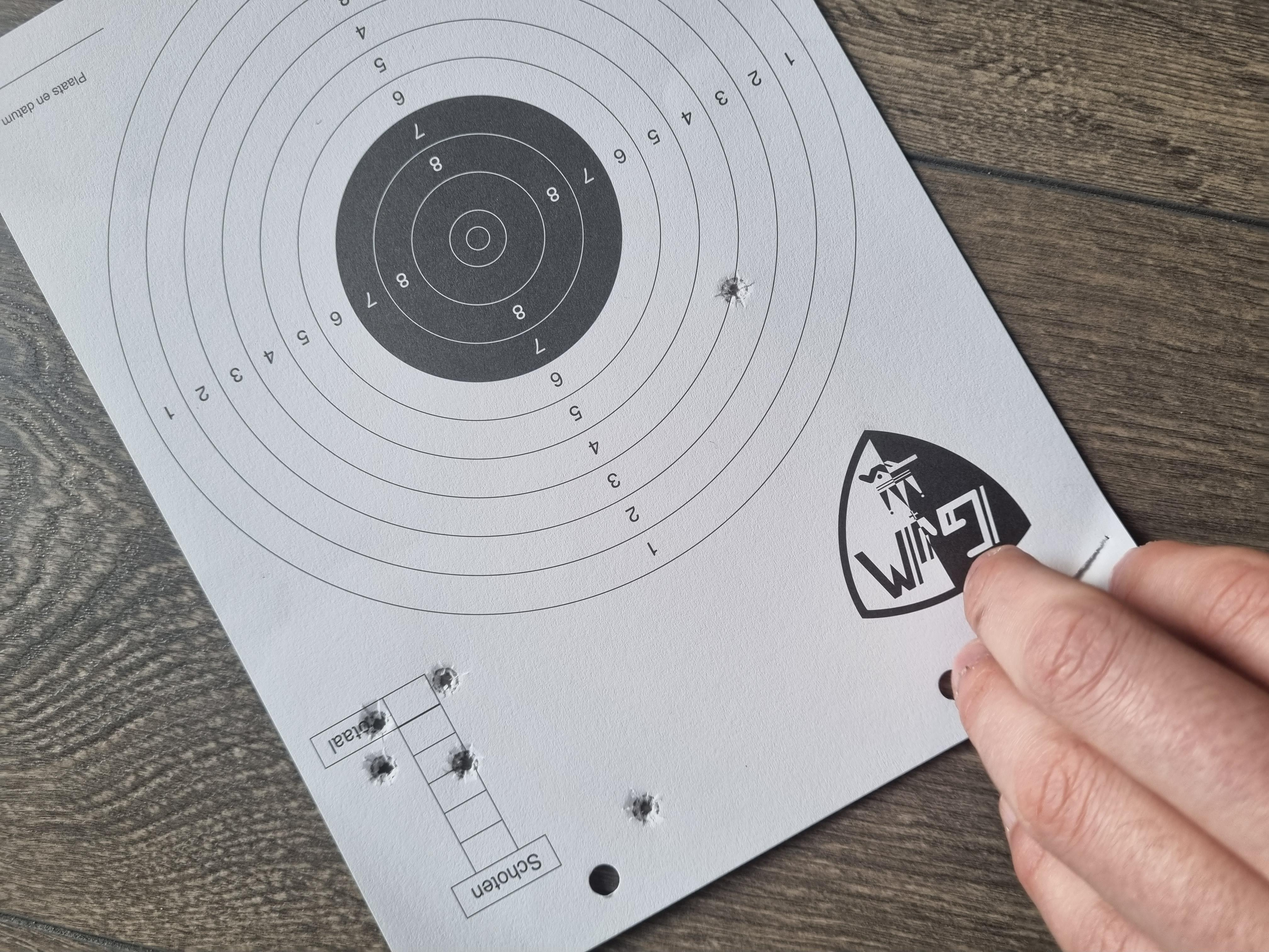hole: (859, 538, 901, 567), (172, 469, 213, 497), (229, 336, 276, 360), (339, 321, 385, 345), (223, 273, 265, 298), (284, 270, 332, 291)
